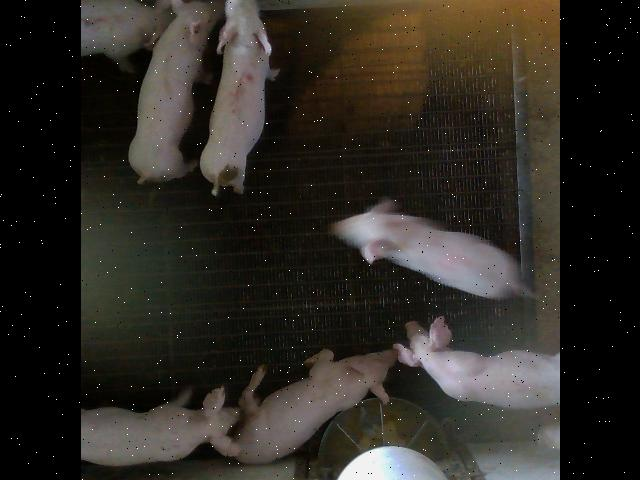pig-5: (199, 0, 277, 195)
